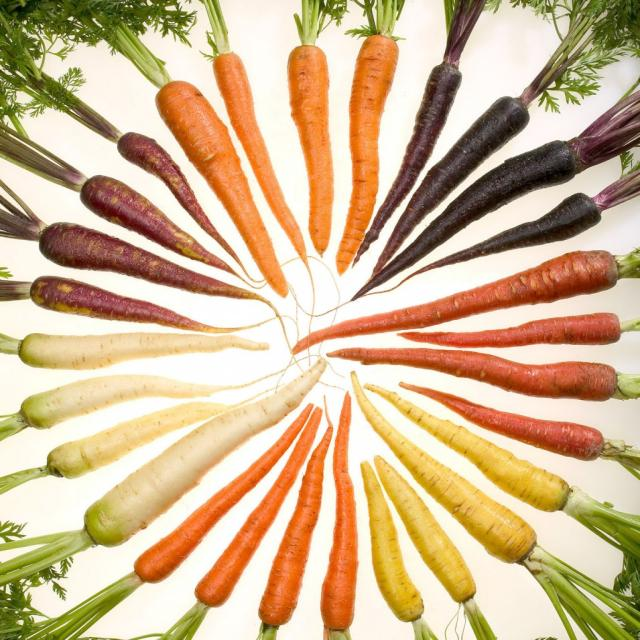Carrot: (288, 42, 342, 254)
